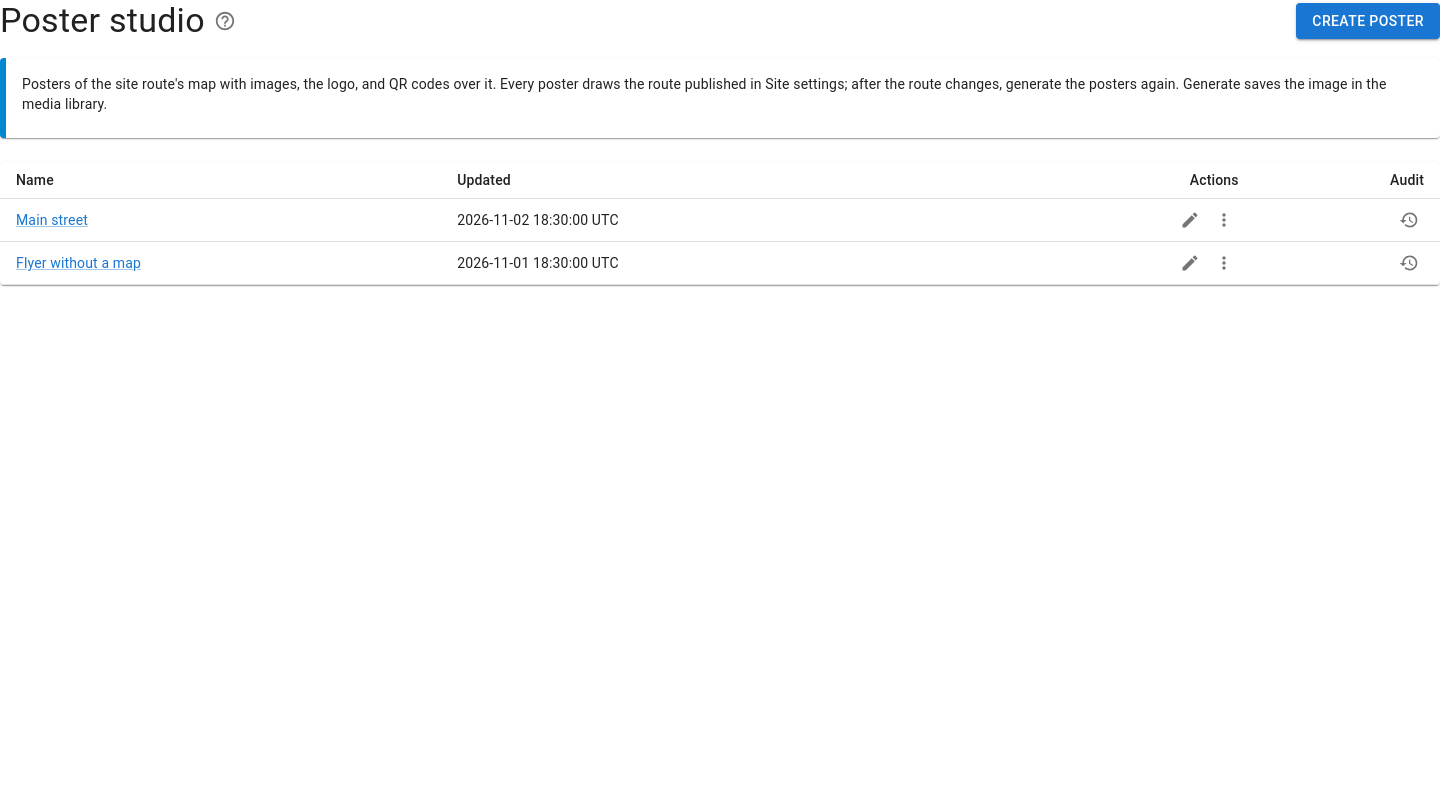
Scenario: PostersList › Delete goes through the impact preview and deletes the poster
Click the button named "Actions for Main street" at (1224, 220), box [1209,205,1239,235]
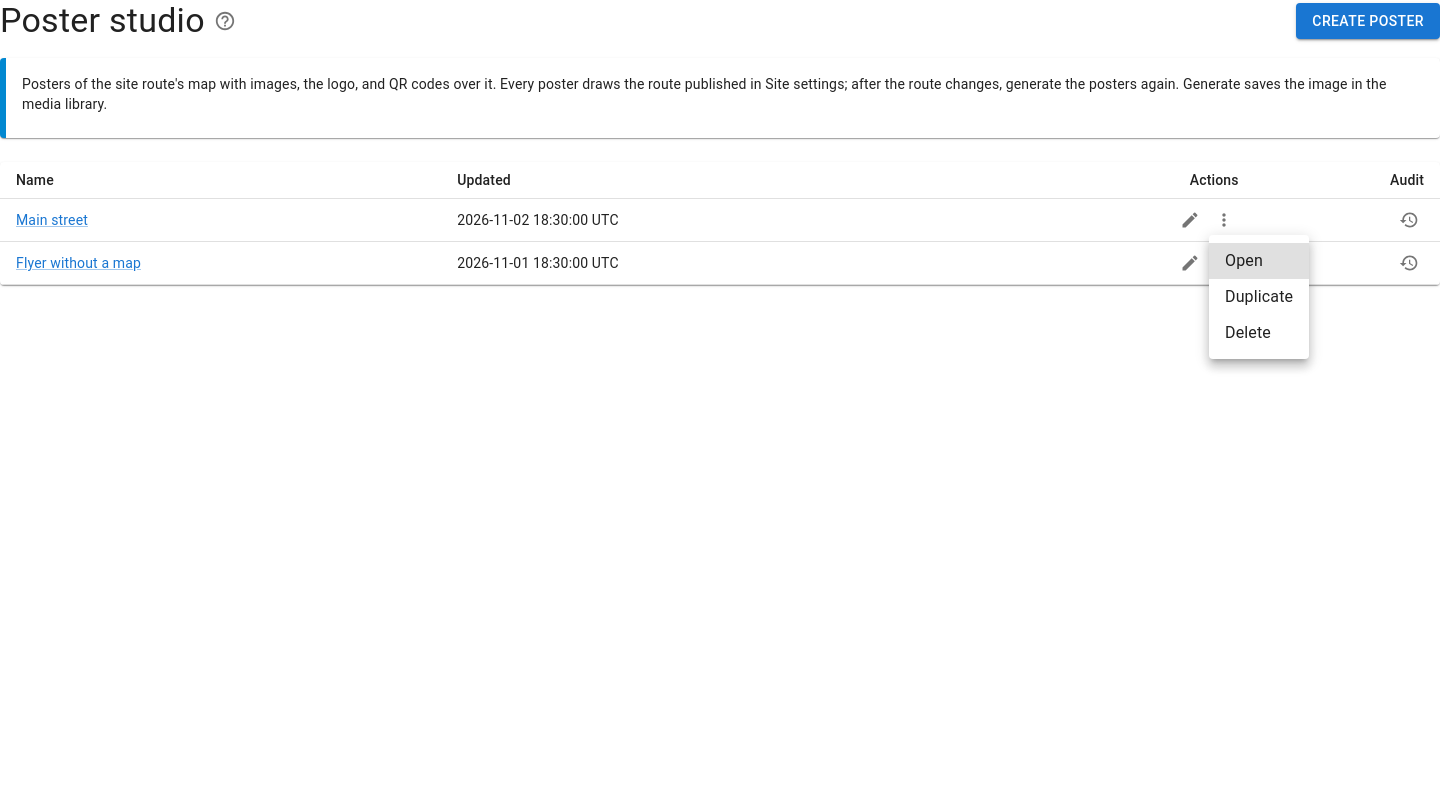
Click the menu item "Delete" at (1248, 332), box [1225,323,1271,342]
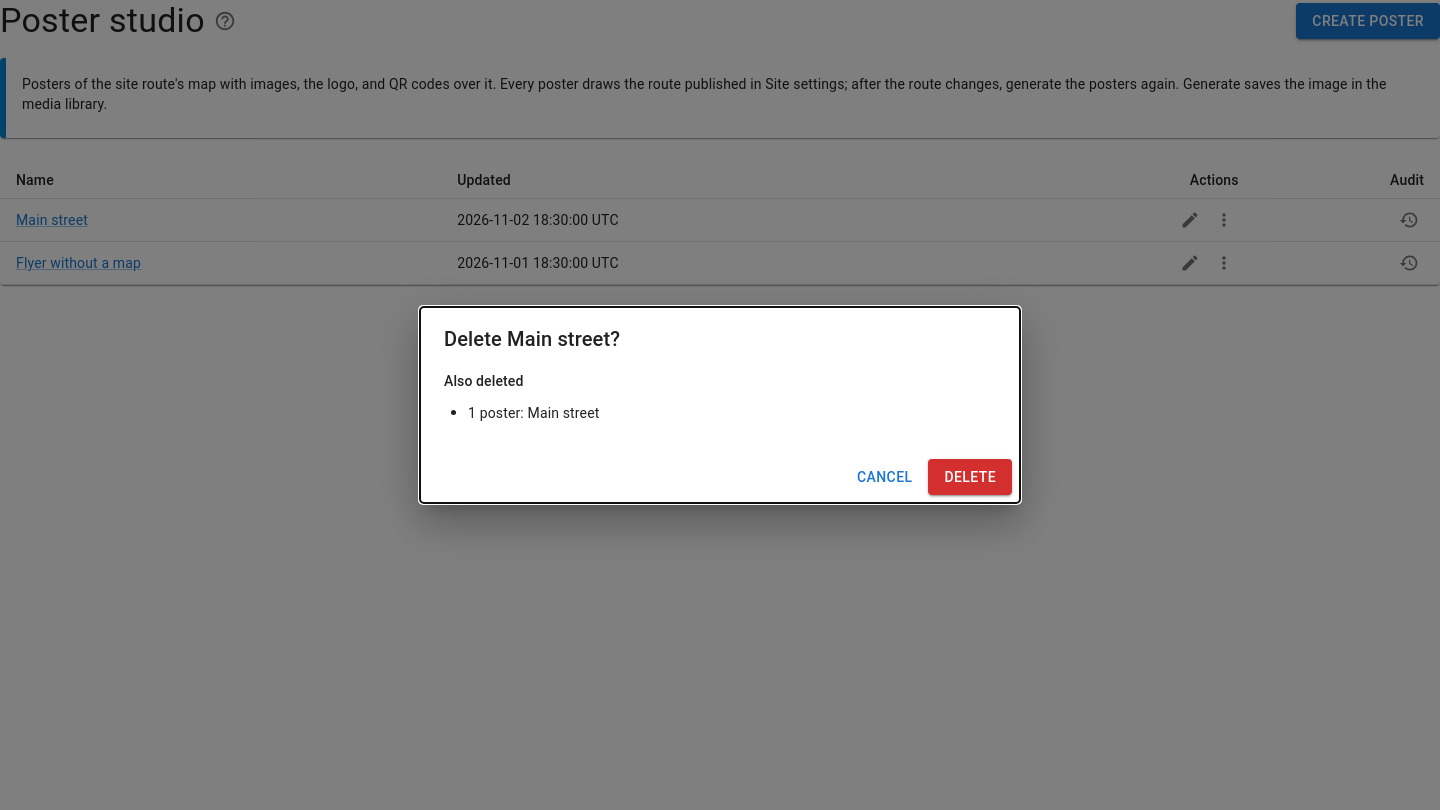
Result: the text "1 poster: Main street" is shown at [468,405,600,421]
Click the button "Delete" at (970, 477), box [928,459,1012,495]
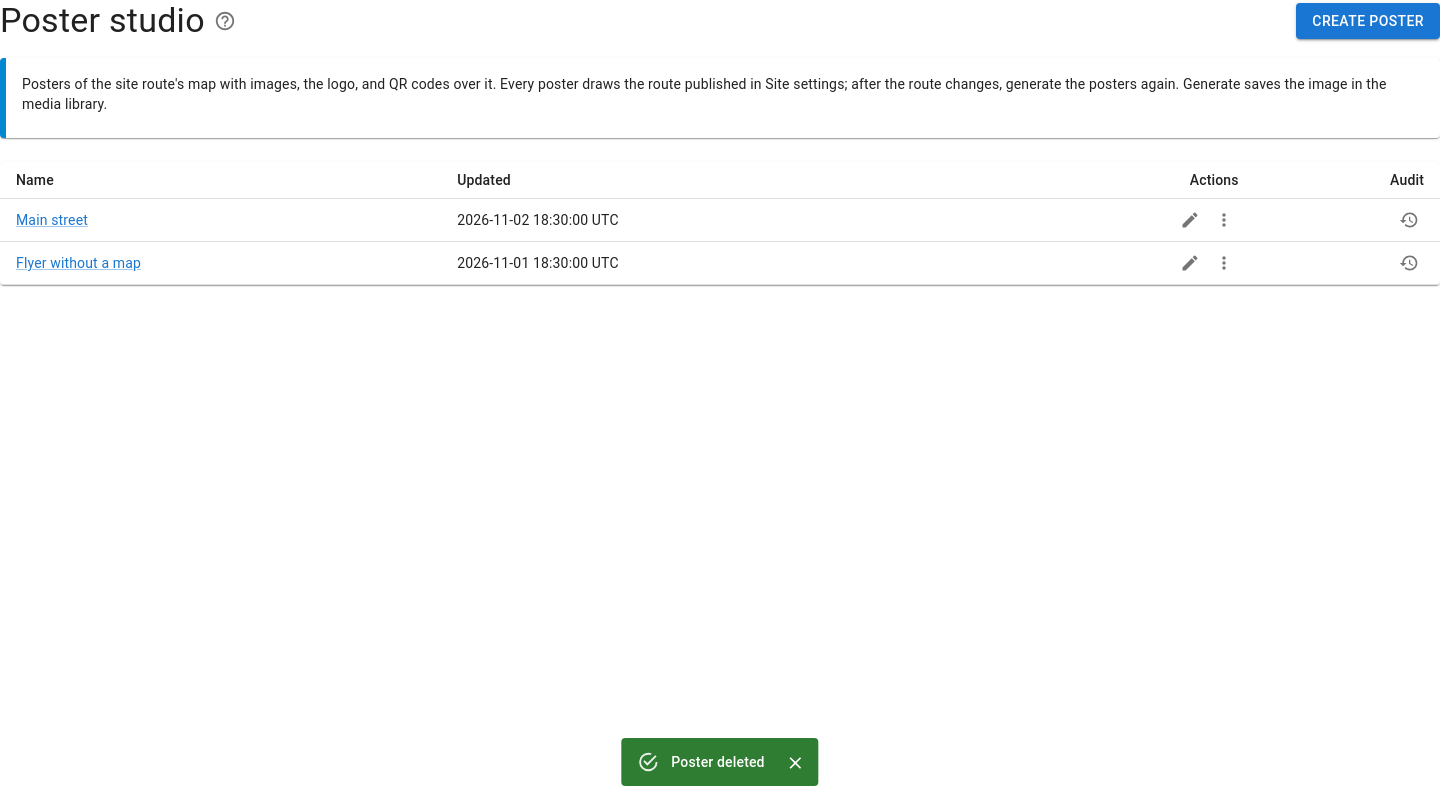
Result: the text "Poster deleted" is shown at [671,754,765,770]
